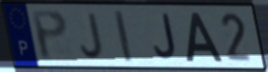2: (220, 11, 254, 63)
A: (185, 12, 225, 63)
I: (112, 9, 135, 64)
J: (152, 12, 179, 62), (79, 11, 105, 60)
P: (29, 8, 70, 63)
